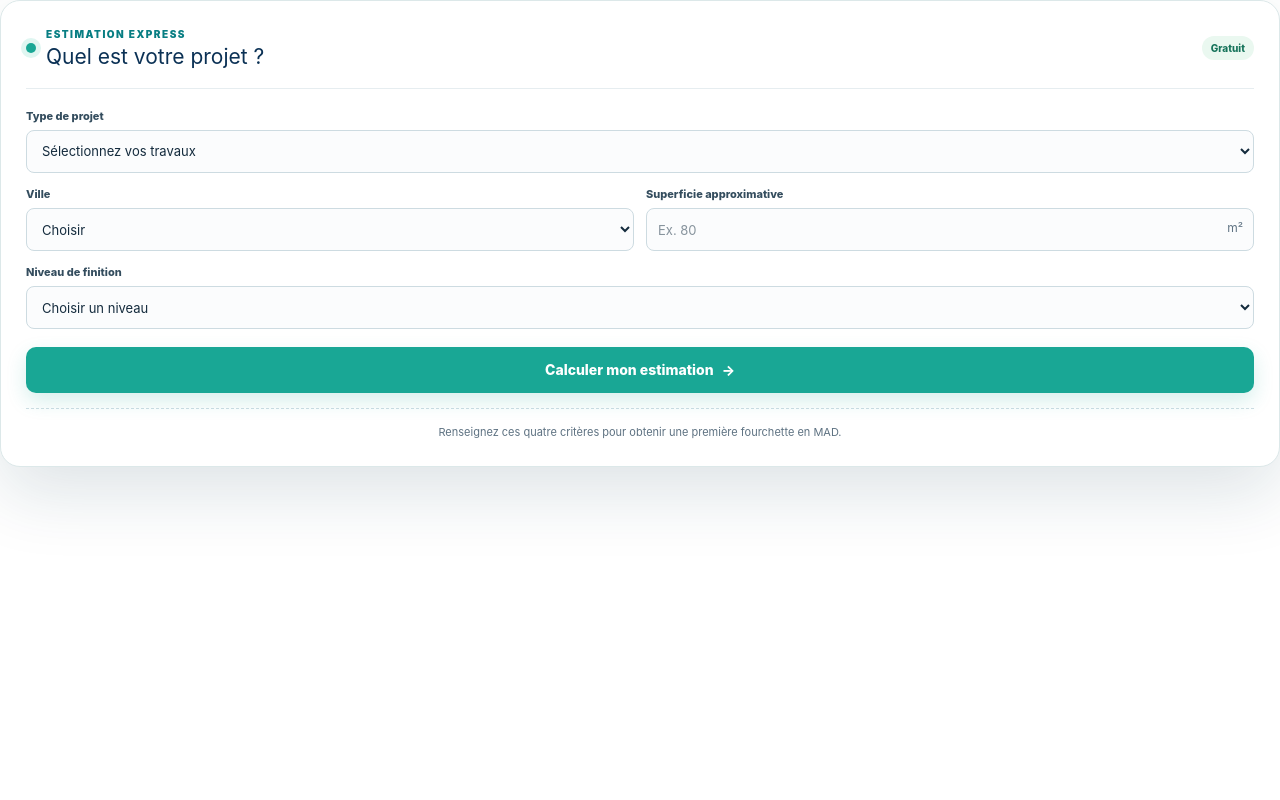
Test: QuickEstimateForm › shows French validation messages for the French locale
Click the button "Calculer mon estimation →" at point(640, 370), box [26,347,1254,393]
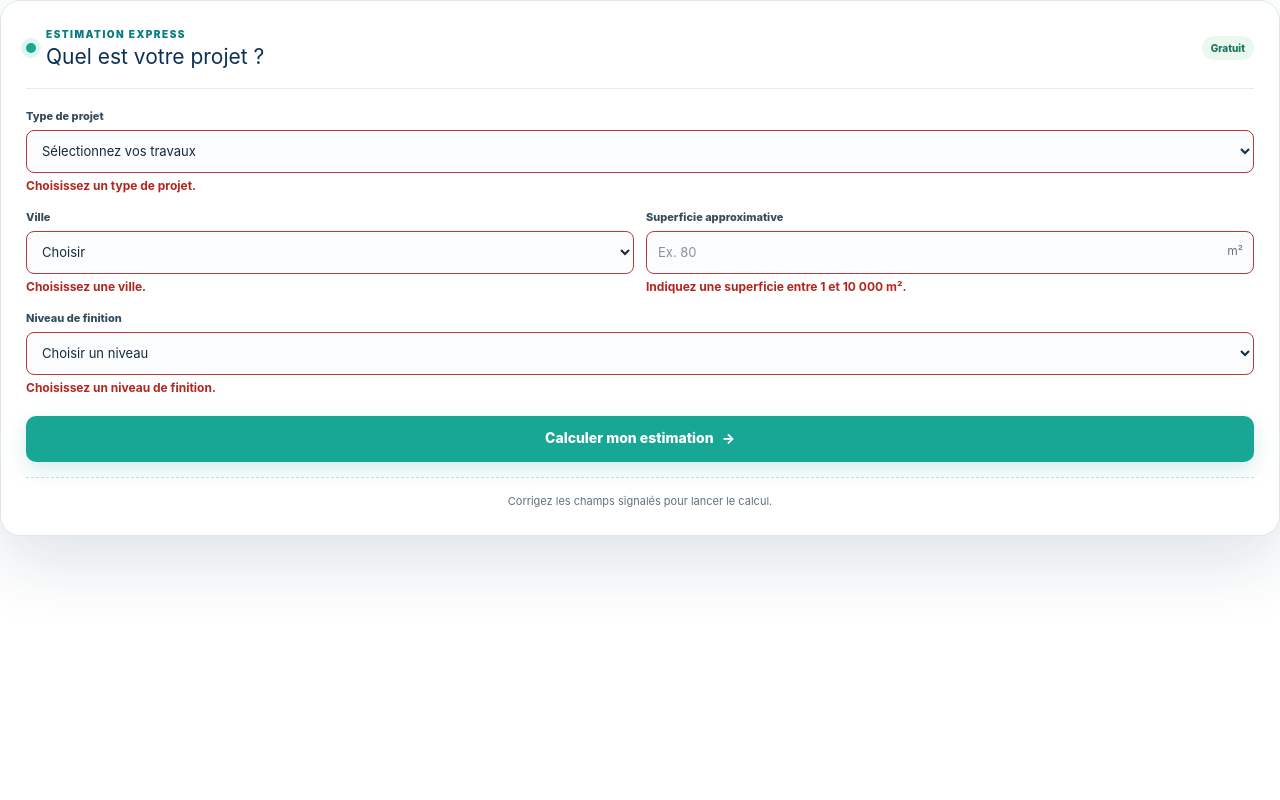
Result: the text "Choisissez un type de projet." is shown at [26,178,196,193]
Result: the text "Indiquez une superficie entre 1 et 10 000 m²." is shown at [646,279,906,294]
